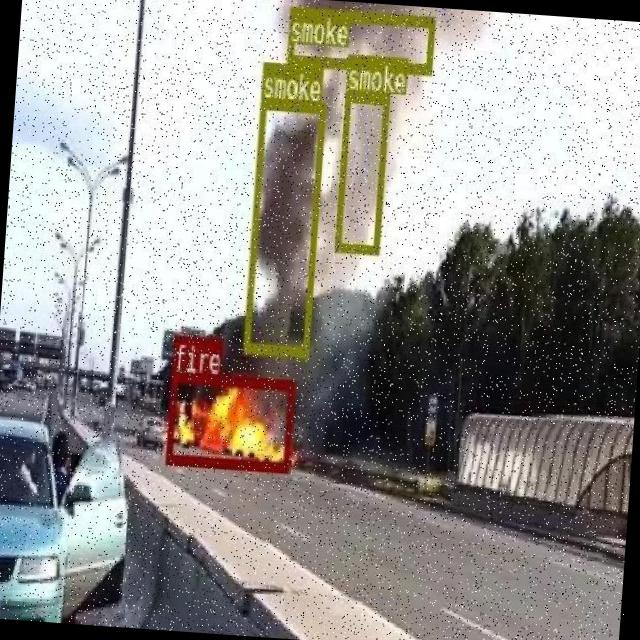smoke: (244, 98, 324, 354), (286, 5, 434, 74), (333, 89, 389, 251)
